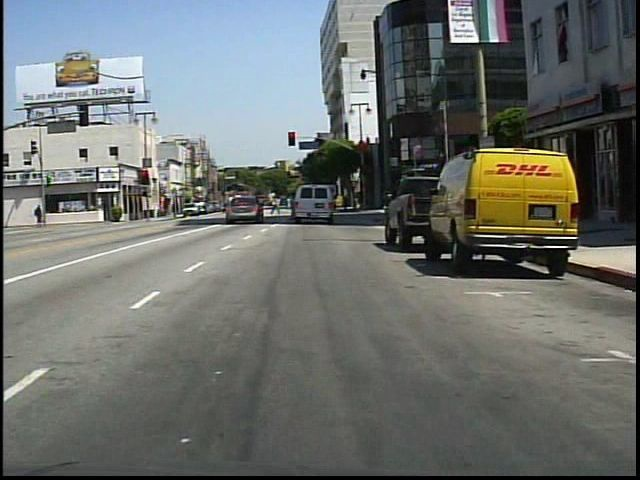person: (269, 194, 282, 218), (33, 204, 44, 226), (291, 191, 292, 223)
